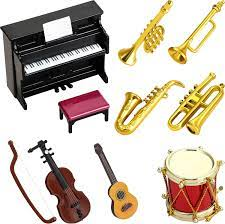Piano: (1, 2, 125, 140)
Saxophone: (110, 73, 195, 144)
Violin: (1, 137, 104, 220)
